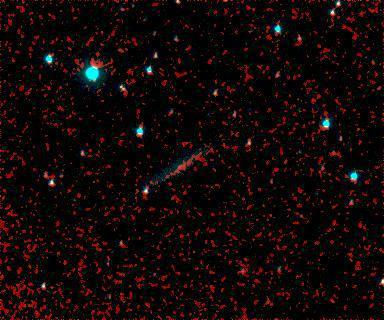star: (194, 45, 224, 75)
